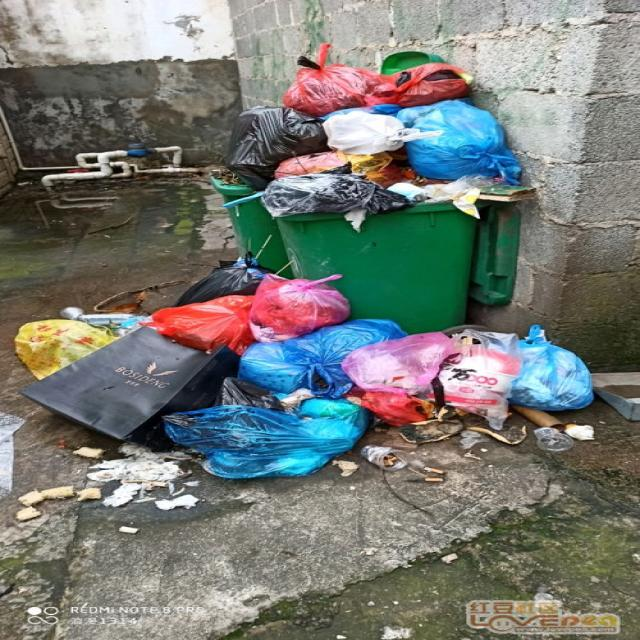garbage: (10, 255, 594, 522)
overflow: (228, 40, 534, 333)
